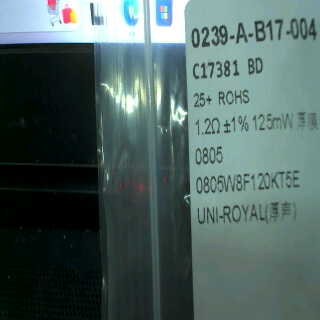1.2R: (191, 112, 226, 174)
